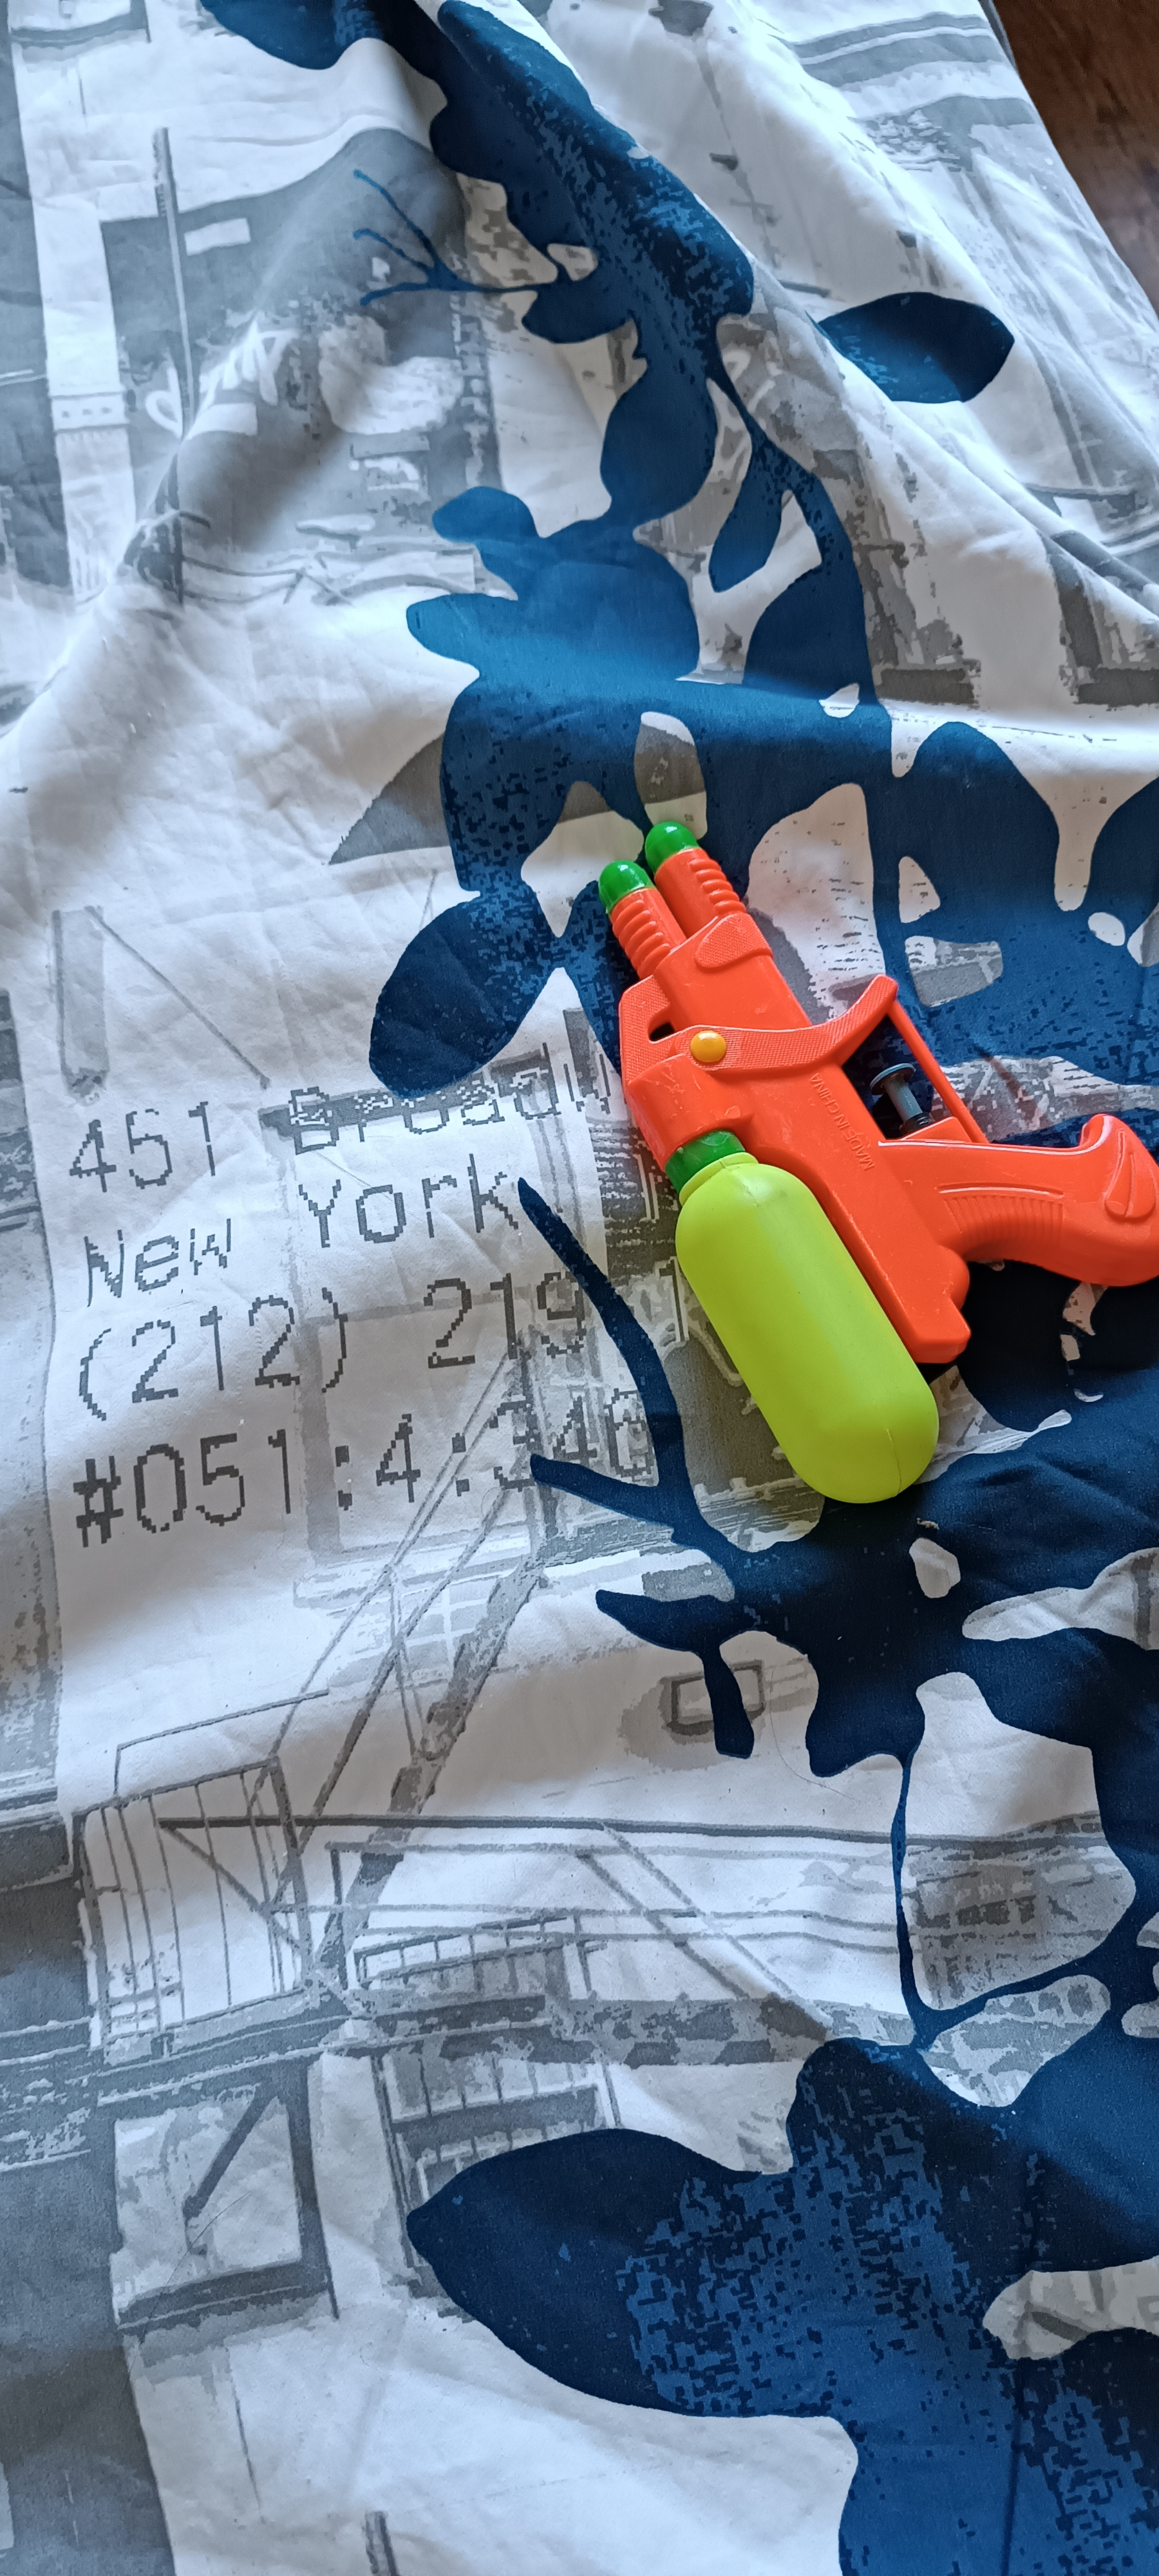Water Gun: (598, 820, 1159, 1505)
